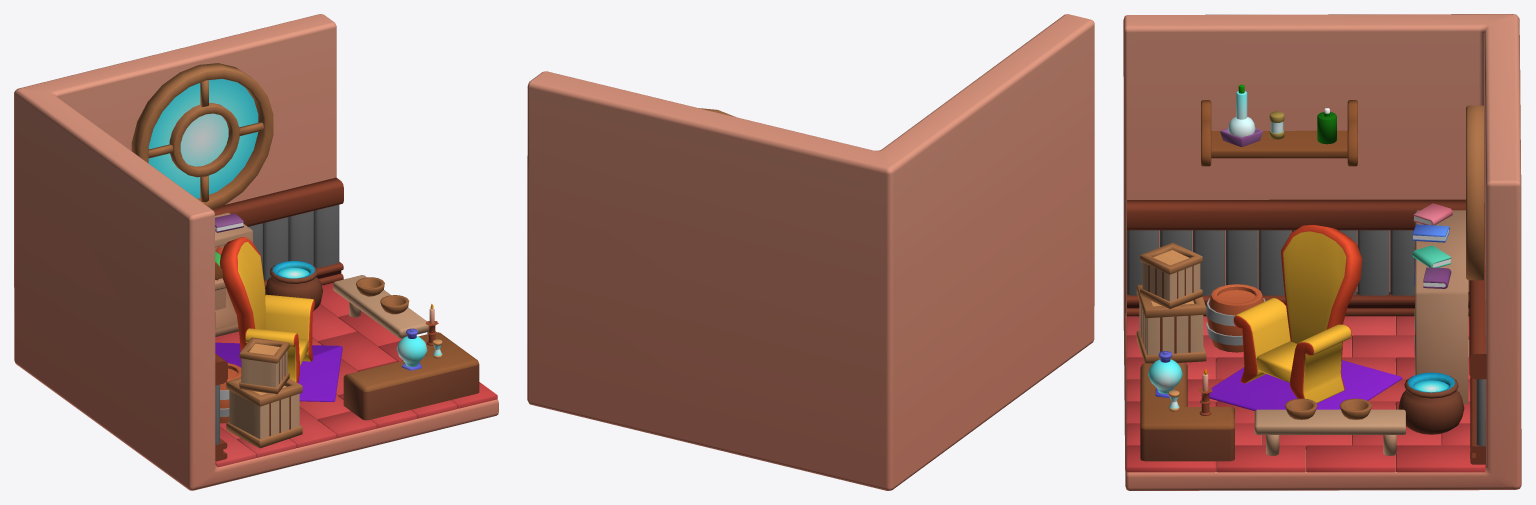
File: room magic.fbx
3 renders of one model, left to right at view 1: azimuth 30°, elevation 25°; view 2: azimuth 150°, elevation 25°; view 3: azimuth 270°, elevation 25°, orthographic. The views are drawn at different scales.
Visible parts, largest first — view 1: Cube.003, Cube.006, Cube.008, Cube.005, Cube.007, Cube.009; view 2: Cube.003; view 3: Cube.003, Cube.006, Cube.005, Cube.009, Cube.007, Cube.008, Cube.004.
Part boxes in pixels (<box>): Cube.003: <box>14,14,498,490</box>; Cube.006: <box>215,237,342,401</box>; Cube.008: <box>343,304,479,420</box>; Cube.005: <box>220,337,302,448</box>; Cube.007: <box>265,261,428,338</box>; Cube.009: <box>215,212,252,336</box>; Cube.003: <box>527,14,1094,490</box>; Cube.003: <box>1123,14,1521,490</box>; Cube.006: <box>1201,225,1402,410</box>; Cube.005: <box>1136,242,1265,363</box>; Cube.009: <box>1412,203,1468,403</box>; Cube.007: <box>1254,372,1464,455</box>; Cube.008: <box>1140,351,1234,461</box>; Cube.004: <box>1201,84,1357,166</box>.
Size of the model in its own units: 1514 by 1281 by 1490.
Materials: 1 (1 with a texture image).
